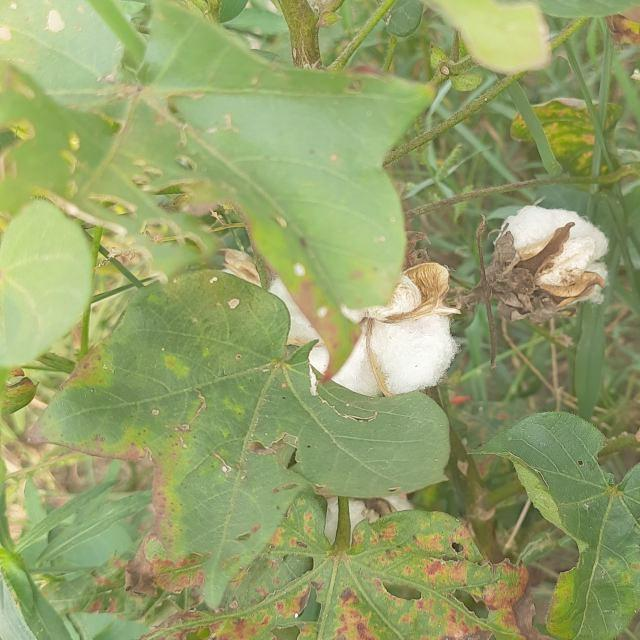Matured Cotton Boll: (348, 262, 460, 396), (488, 204, 610, 324)
